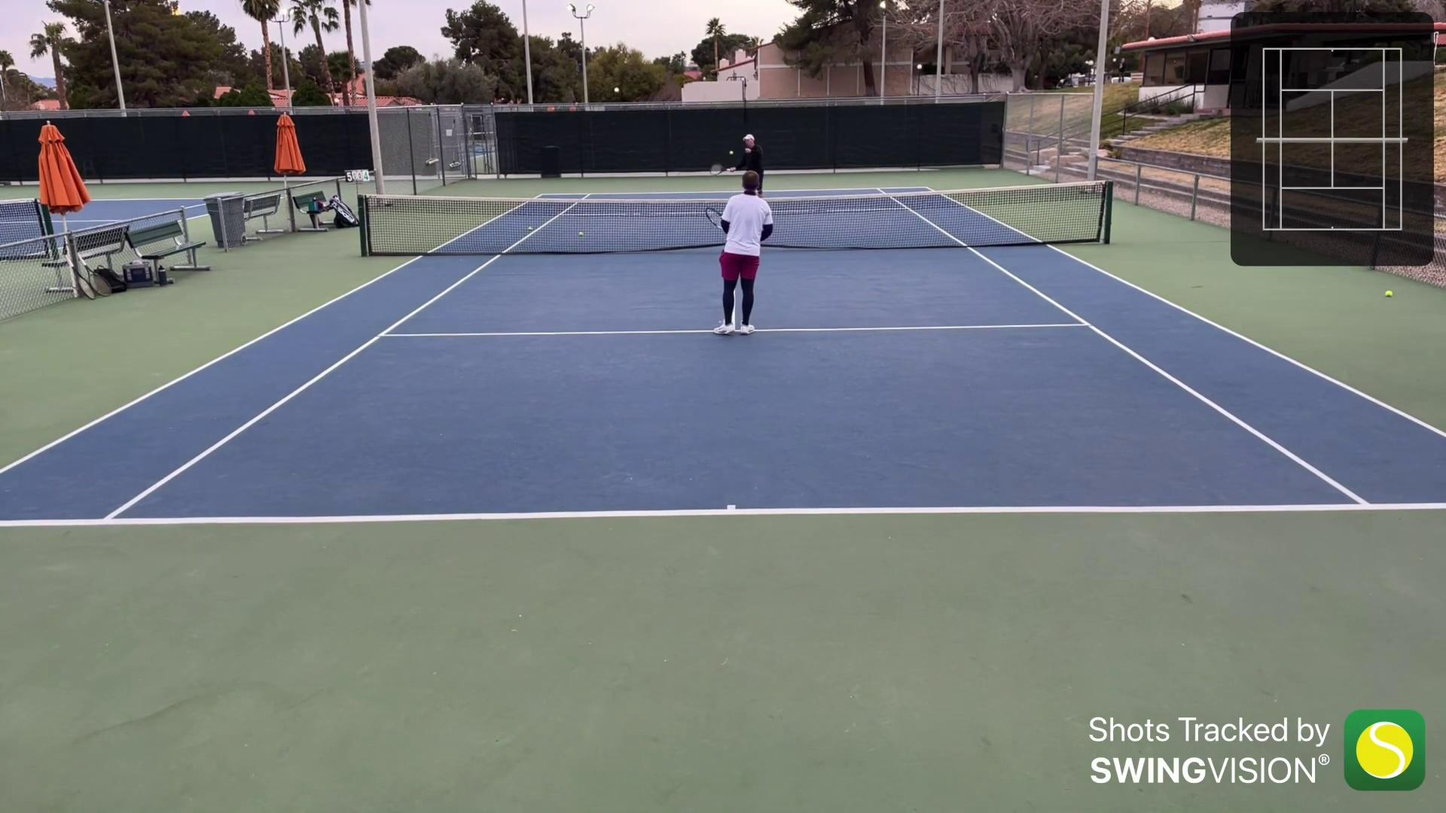ball: (727, 150, 734, 156), (578, 230, 583, 238), (526, 226, 534, 231)
